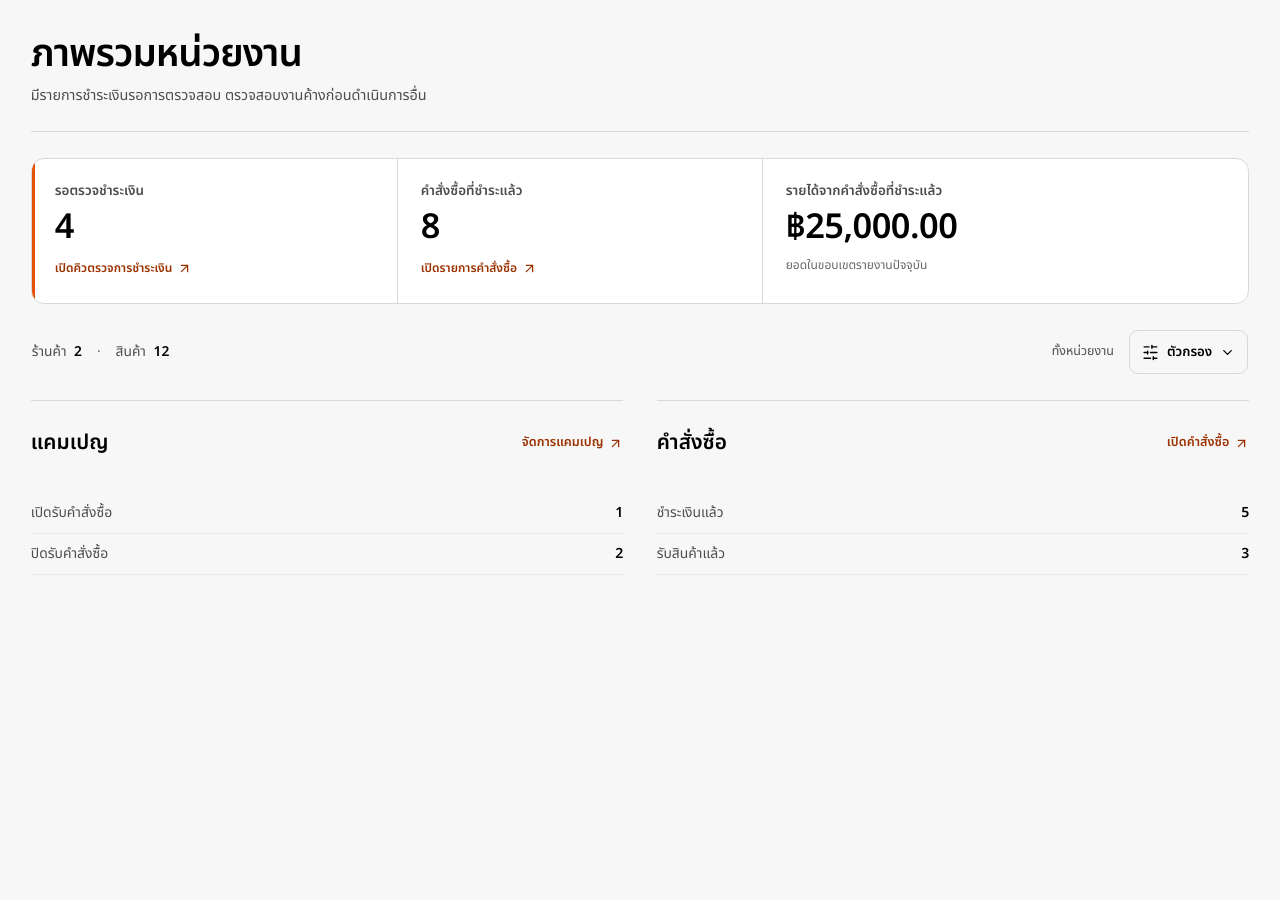
Test: DashboardView › closes filter on Escape/outside click and returns focus
This screenshot has width=1280, height=900.
Check: the text "฿25,000.00" is shown, box top-left (786, 202), bottom-right (958, 254)
Click the button "ตัวกรอง" at {"x": 1189, "y": 352}, box top-left (1129, 330), bottom-right (1248, 374)
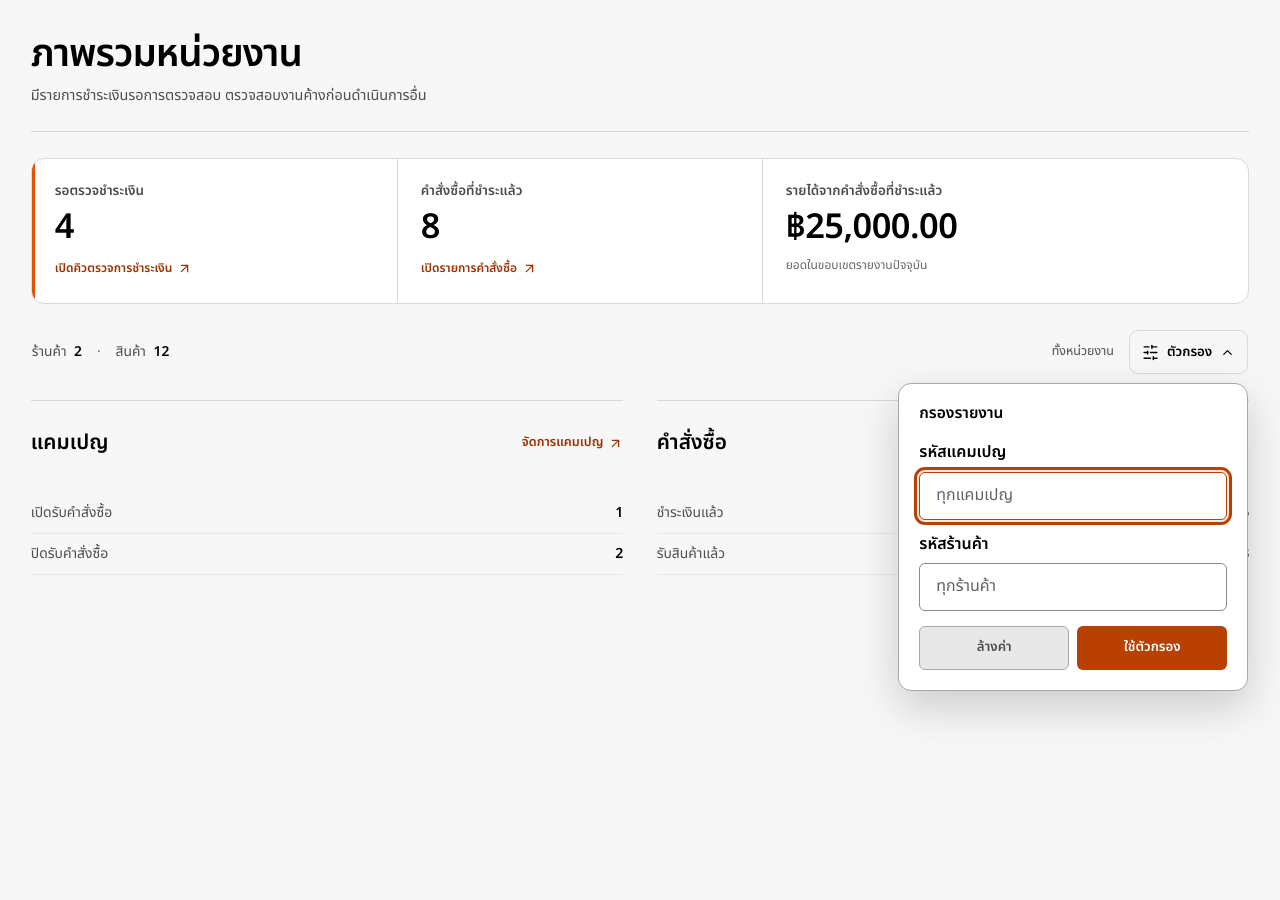
Check: the dialog "กรองรายงาน" is shown, box top-left (898, 383), bottom-right (1248, 691)
Press Escape
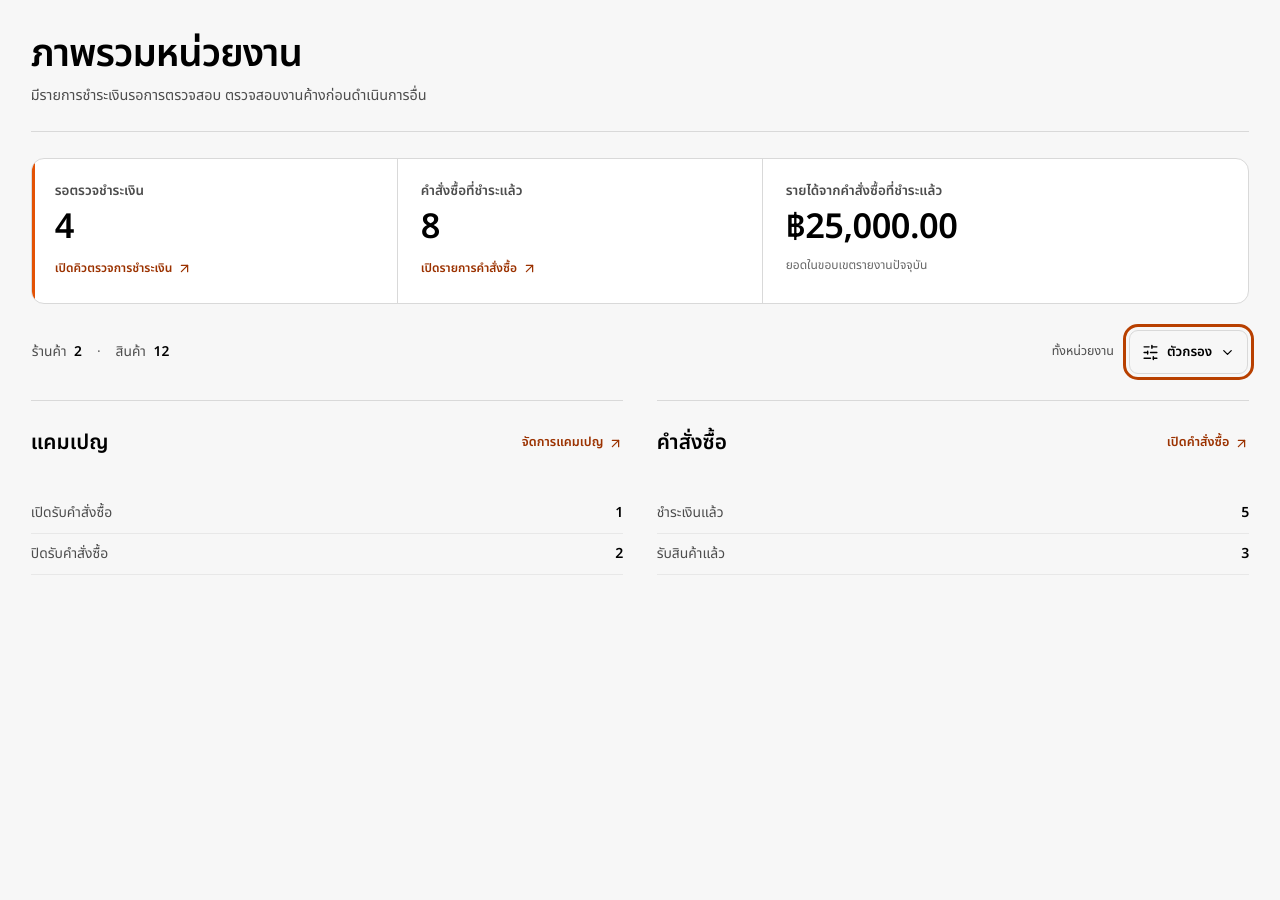
Check: the heading "กรองรายงาน" is gone
Click the button "ตัวกรอง" at {"x": 1189, "y": 352}, box top-left (1129, 330), bottom-right (1248, 374)
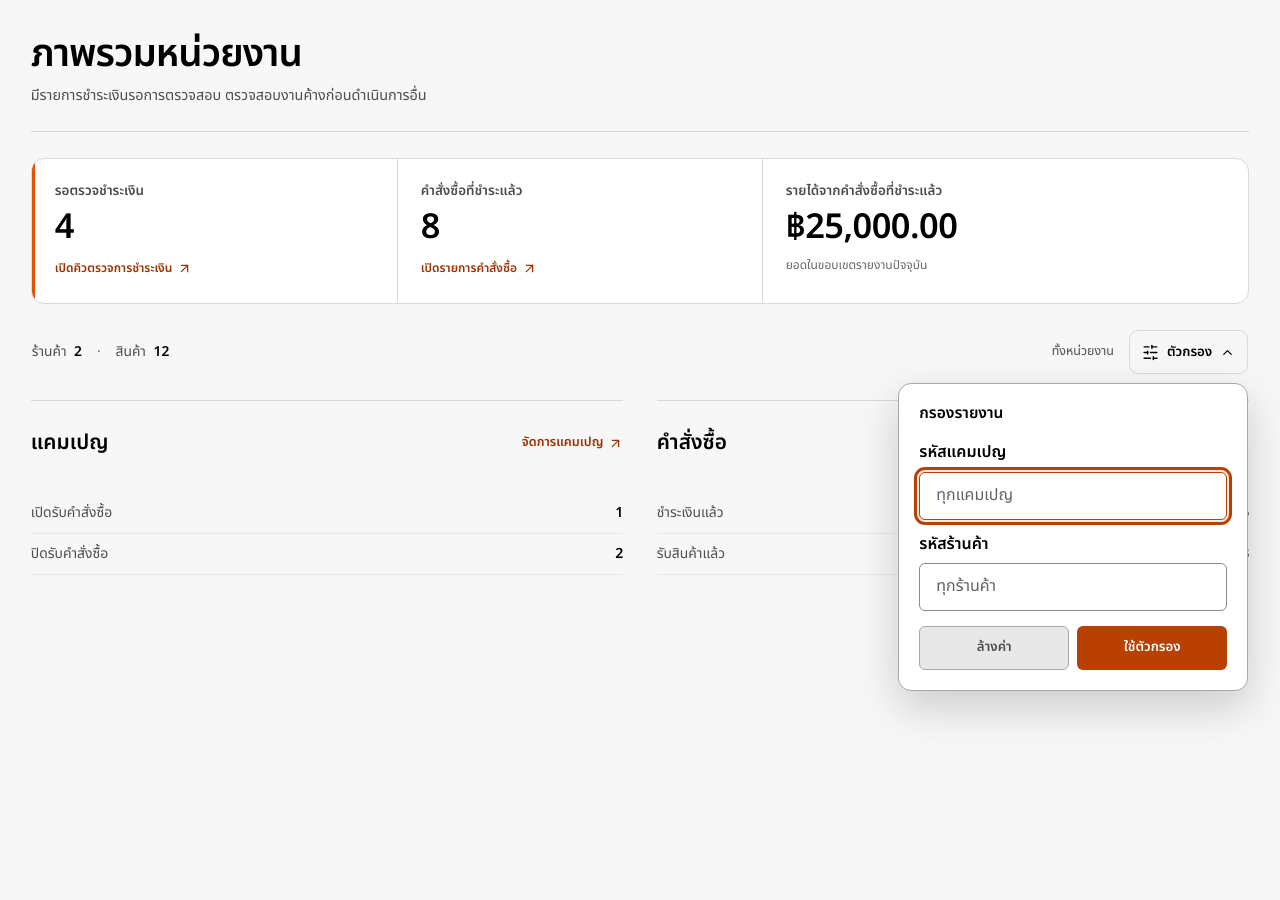
Press the mouse on the element that starts with "ภาพรวมหน่วยงาน" at {"x": 640, "y": 450}, box top-left (0, 0), bottom-right (1279, 899)
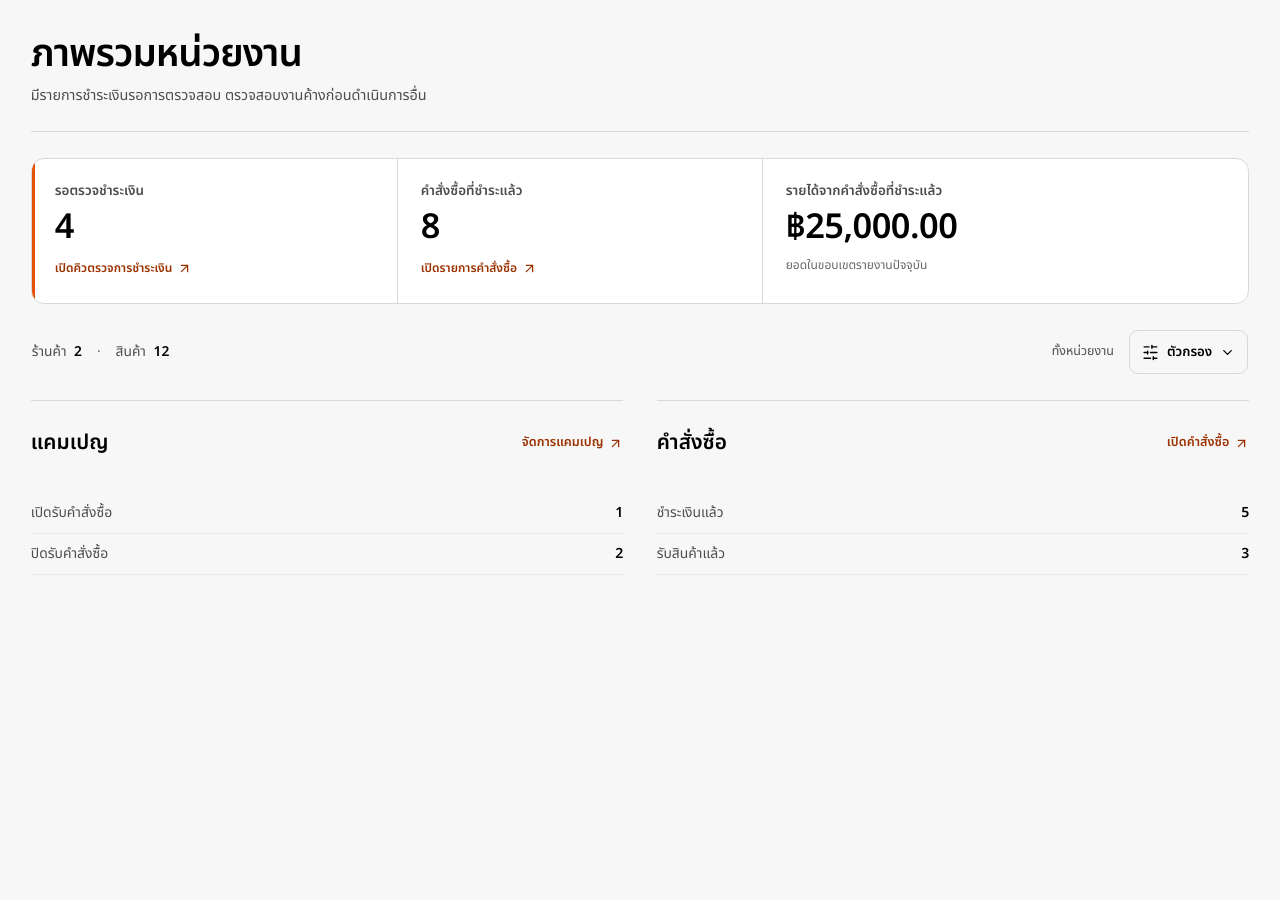
Check: the heading "กรองรายงาน" is gone
